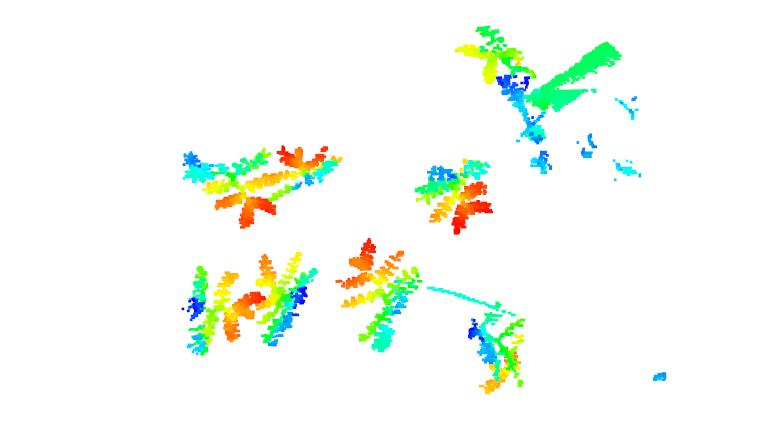chickpea: (329, 237, 418, 355), (183, 144, 275, 234), (177, 264, 262, 354), (454, 23, 541, 109), (251, 253, 324, 349), (461, 304, 531, 394), (412, 160, 494, 229), (267, 146, 349, 199)
